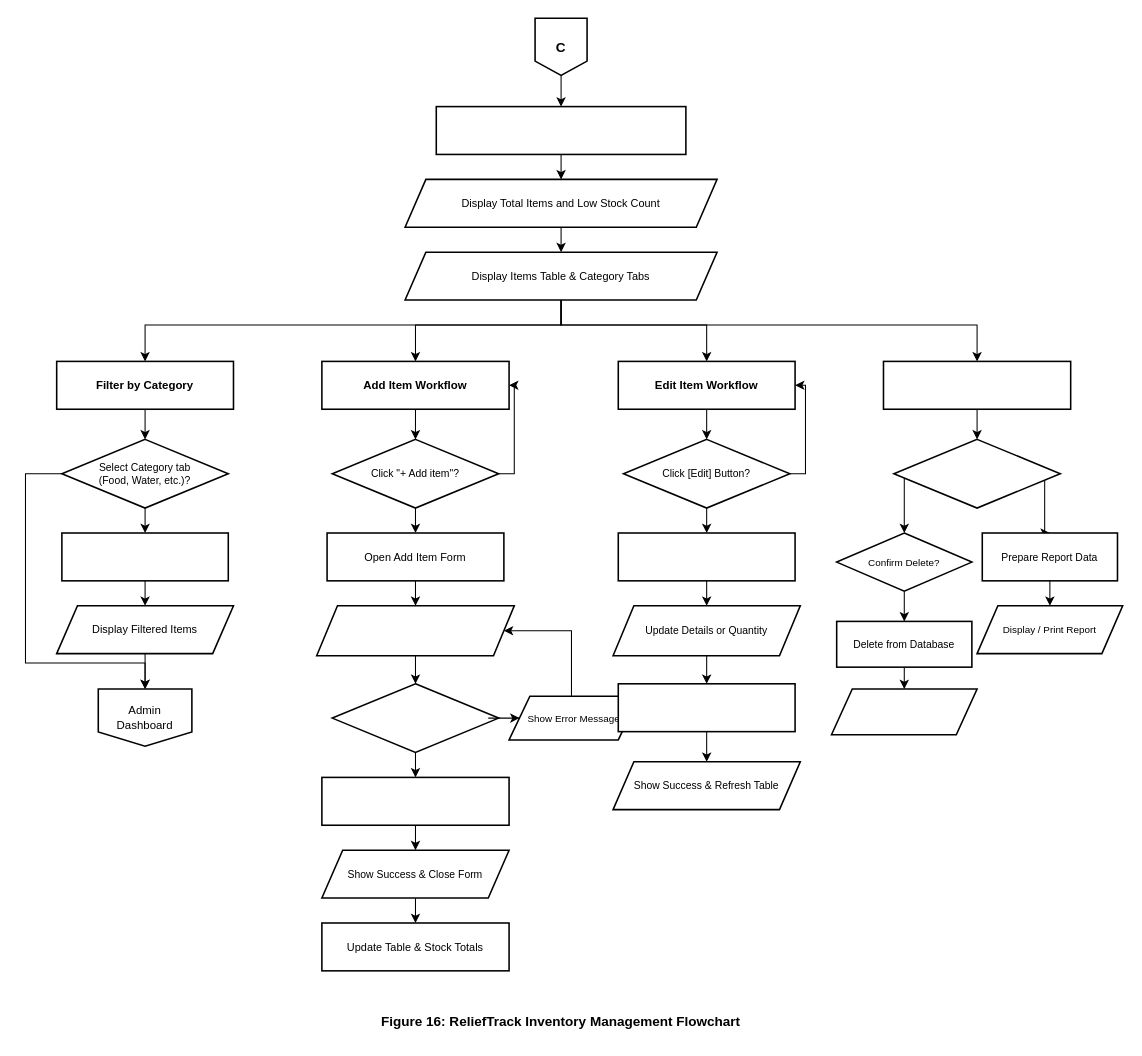
Image size: 1142x1056. Some labels were removed from this diagram. Each missing label, with the centre of its shape:
Delete & Report Actions: [976,385]
Delete or Report?: [977,473]
Enter Item Name, Category, Quantity, and Notes: [415,630]
Filter Supplies List: [145,556]
Inventory Management Page: [560,130]
Is input valid? (Name filled & Qty ≥ 0): [415,718]
Open Edit Form: [706,556]
Remove from Table: [903,711]
Save Changes to Database: [706,707]
Save New Item to Database: [415,801]
